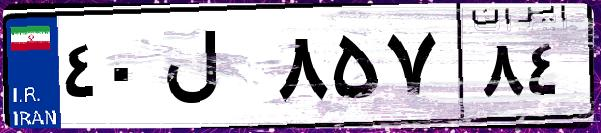0: (110, 28, 158, 98)
4: (57, 26, 110, 100), (525, 38, 570, 115)
5: (330, 28, 385, 110)
7: (385, 28, 445, 110)
8: (270, 28, 330, 110), (475, 38, 525, 113)
ل: (158, 20, 270, 120)
